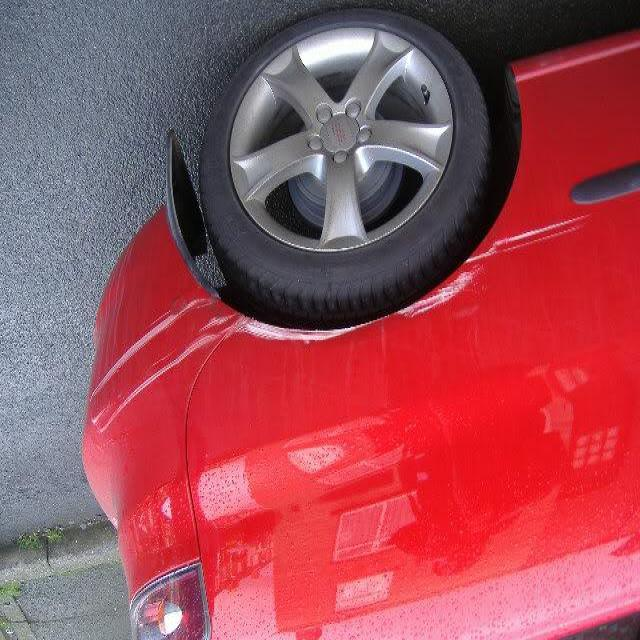scratch: (233, 264, 485, 351)
